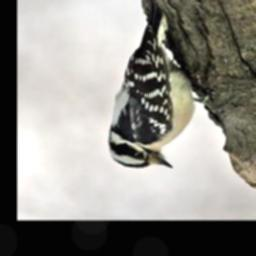Woodpecker: (105, 0, 225, 173)
